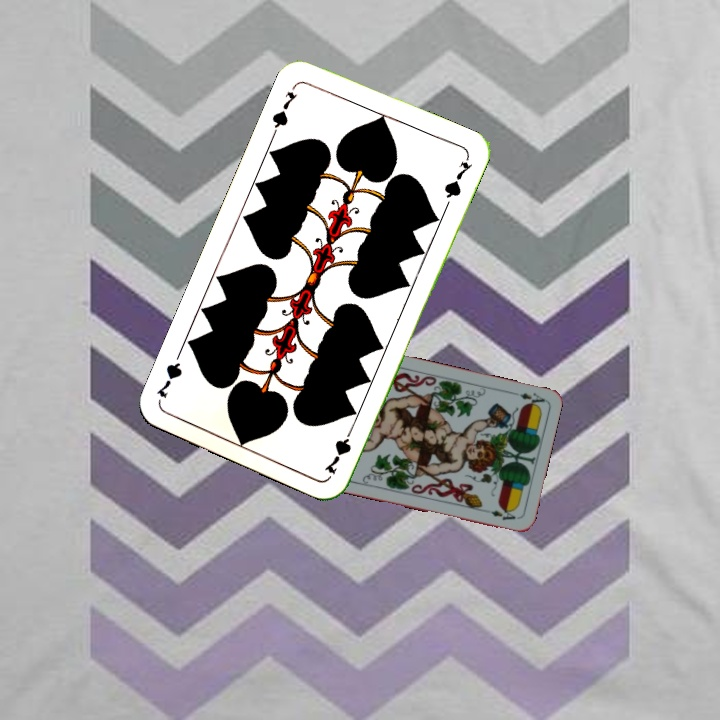EA: (506, 387, 547, 409)
G7: (321, 421, 357, 477), (268, 87, 300, 137)
